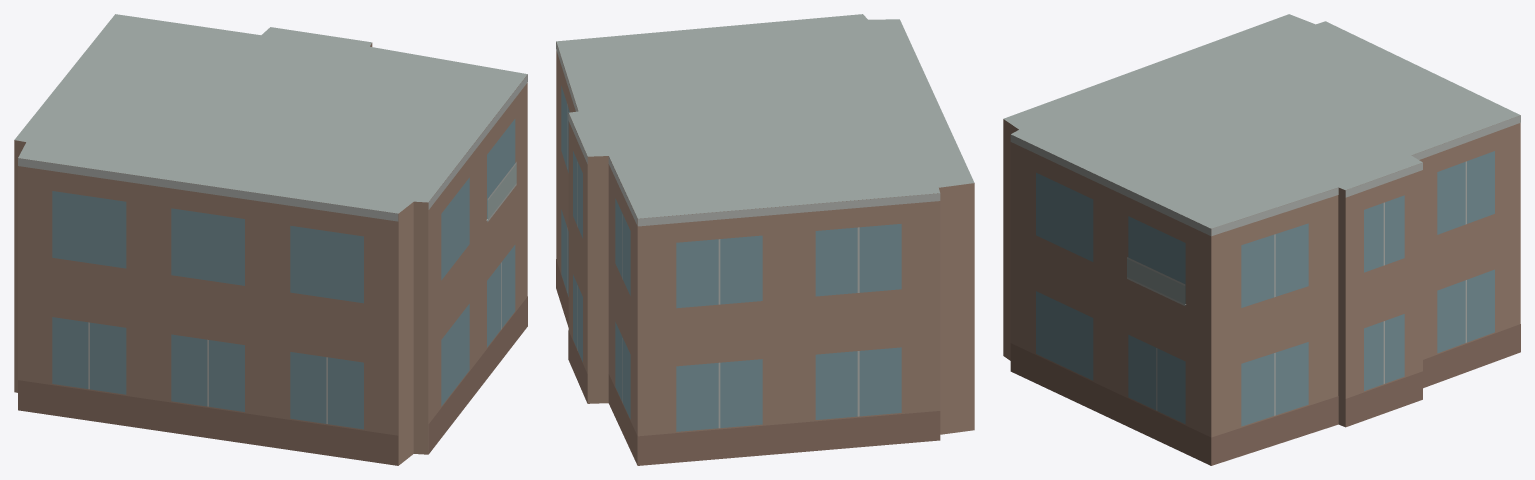
The model's file is survey-upis-32984602.glb.
3 renders of one model, left to right at view 1: azimuth 30°, elevation 25°; view 2: azimuth 150°, elevation 25°; view 3: azimuth 270°, elevation 25°, orthographic. The views are drawn at different scales.
Visible parts, largest first — view 1: survey-upis-32984602.tmp; view 2: survey-upis-32984602.tmp; view 3: survey-upis-32984602.tmp.
Boxes of the visible parts, box(x1,y1,x2,y2) form: survey-upis-32984602.tmp: box(14, 14, 527, 465); survey-upis-32984602.tmp: box(556, 14, 974, 465); survey-upis-32984602.tmp: box(1003, 14, 1520, 465).
Bounding box in the file's own units: 14.97 × 7.7 × 15.24.
